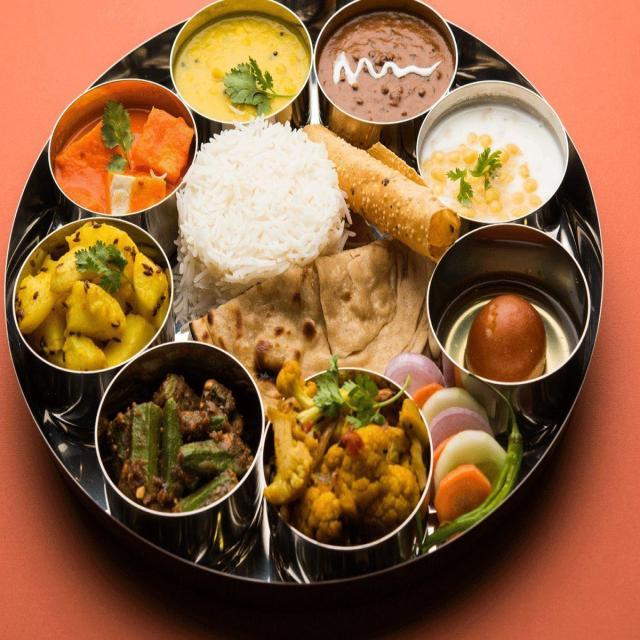curd: (418, 94, 567, 233)
papad: (293, 233, 434, 372)
rice: (185, 122, 335, 302)
sambar-rasam: (328, 9, 447, 124)
sweet: (324, 5, 451, 135), (446, 269, 573, 394)
veg-fry: (255, 341, 417, 553), (96, 349, 256, 526)
